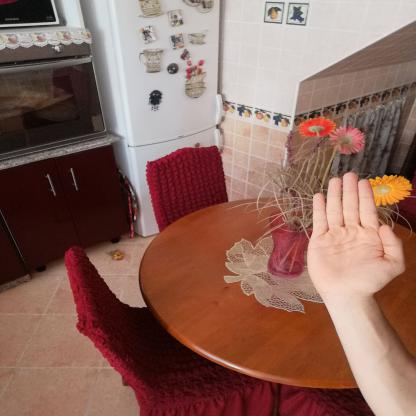SEEN: (295, 166, 411, 306)
